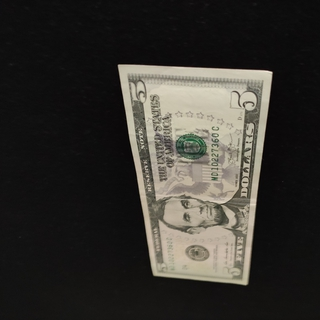5USDFront: (116, 63, 273, 287)
